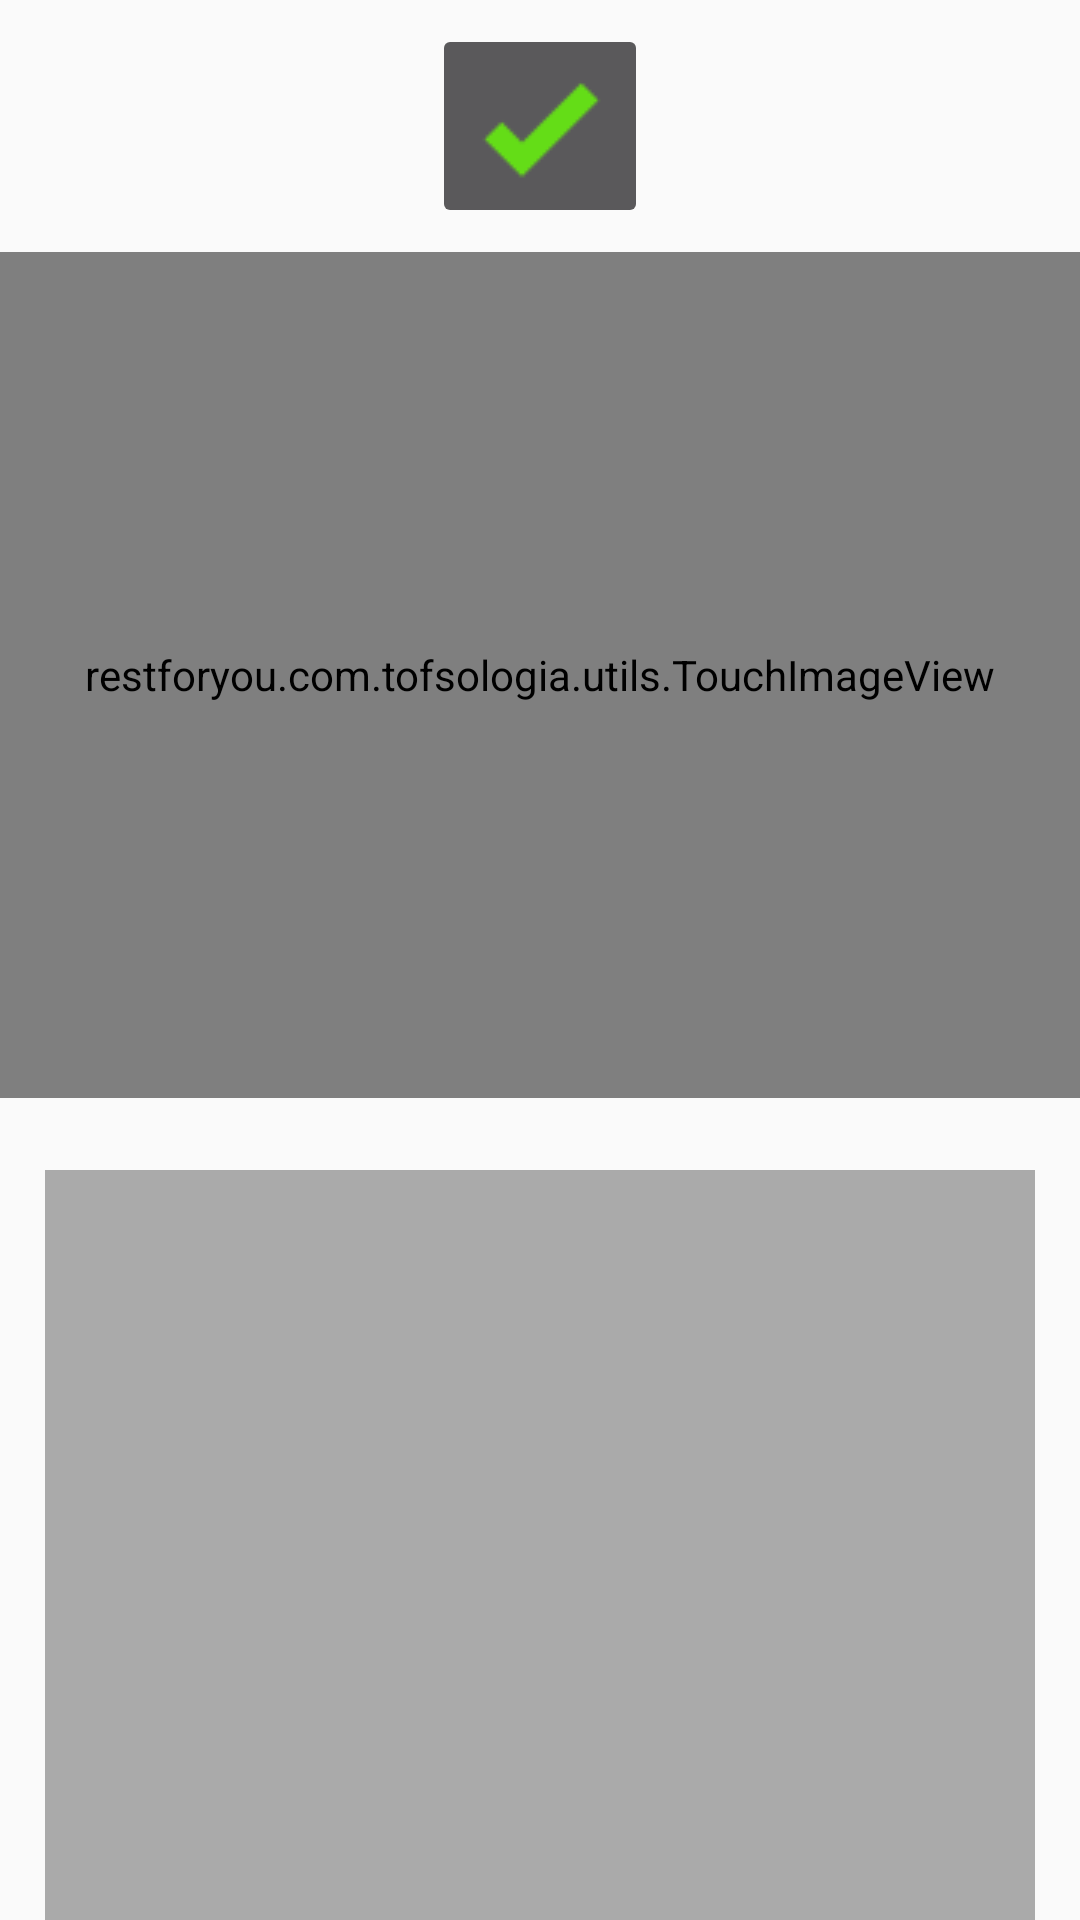

Point at icon controls on the screen. Image size 1080 × 1920, points as (x,y).
scan activity done: (540,126)
